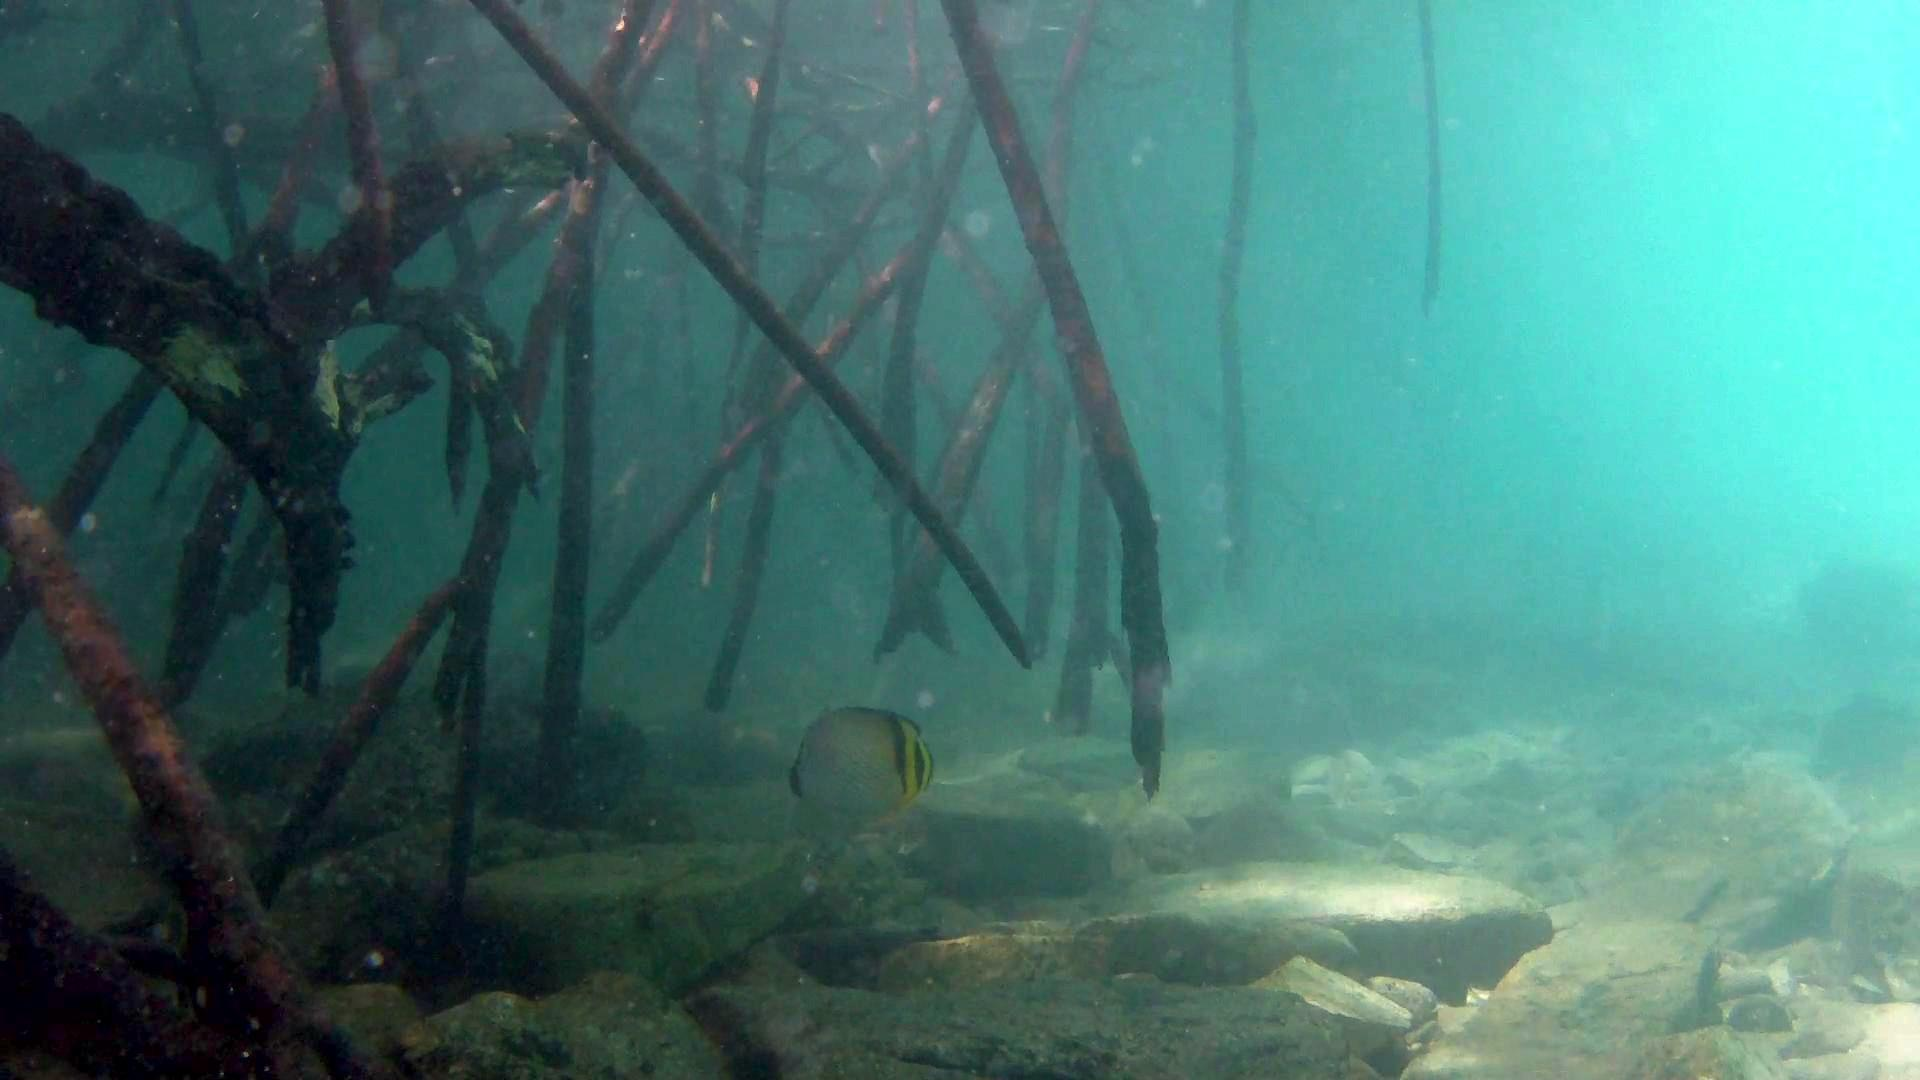chaetodon vagabundus: (774, 704, 936, 820)
